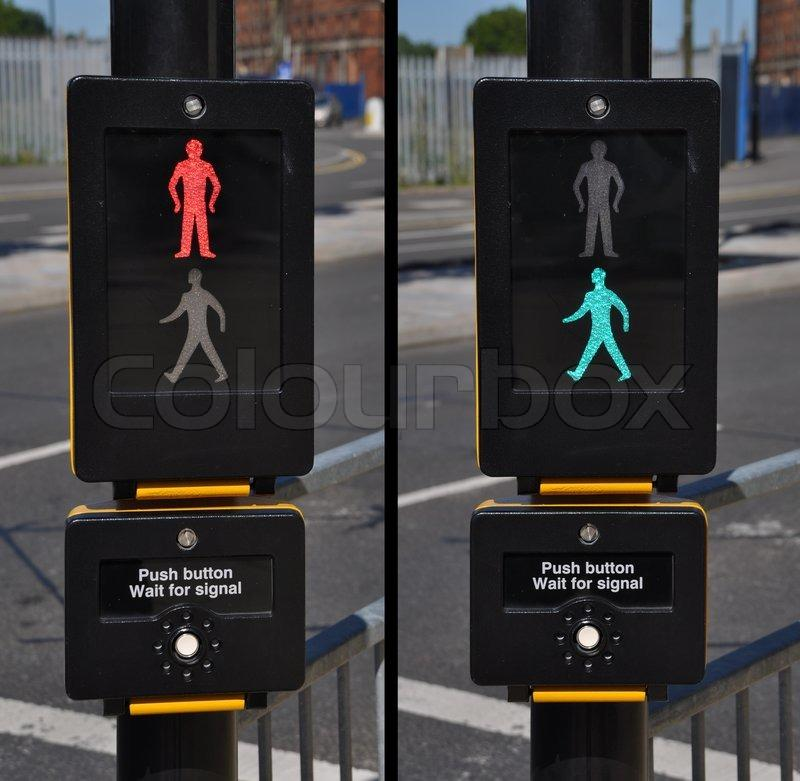Traffic light green: (474, 58, 728, 494)
